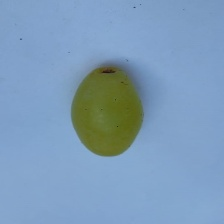grapes: (5, 16, 180, 184)
